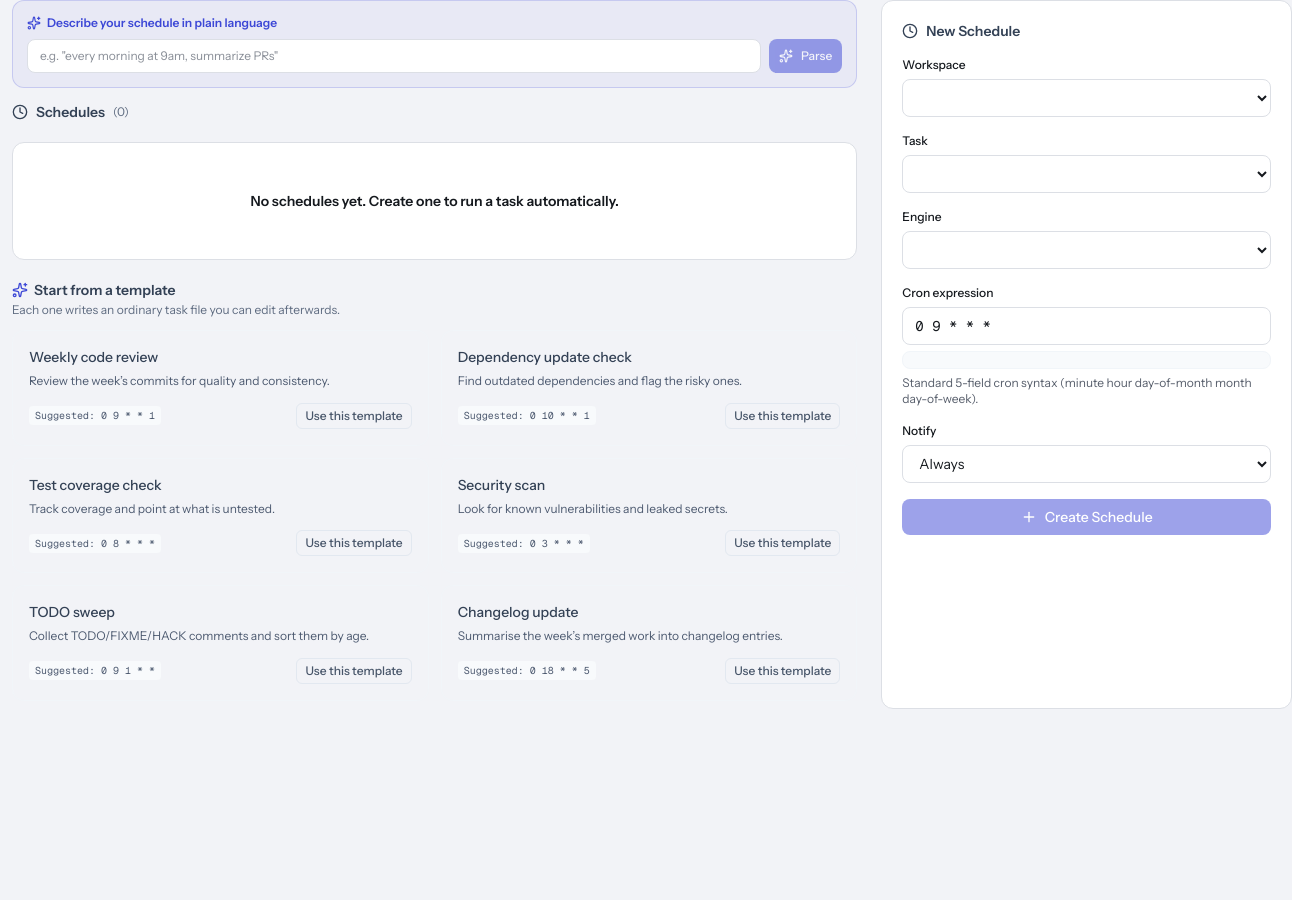
Test: CronPage natural language parsing › displays error message when parsing fails
Type "每晚8点" into the field named "Describe your schedule in plain language" at (394, 56), box [27,39,761,73]
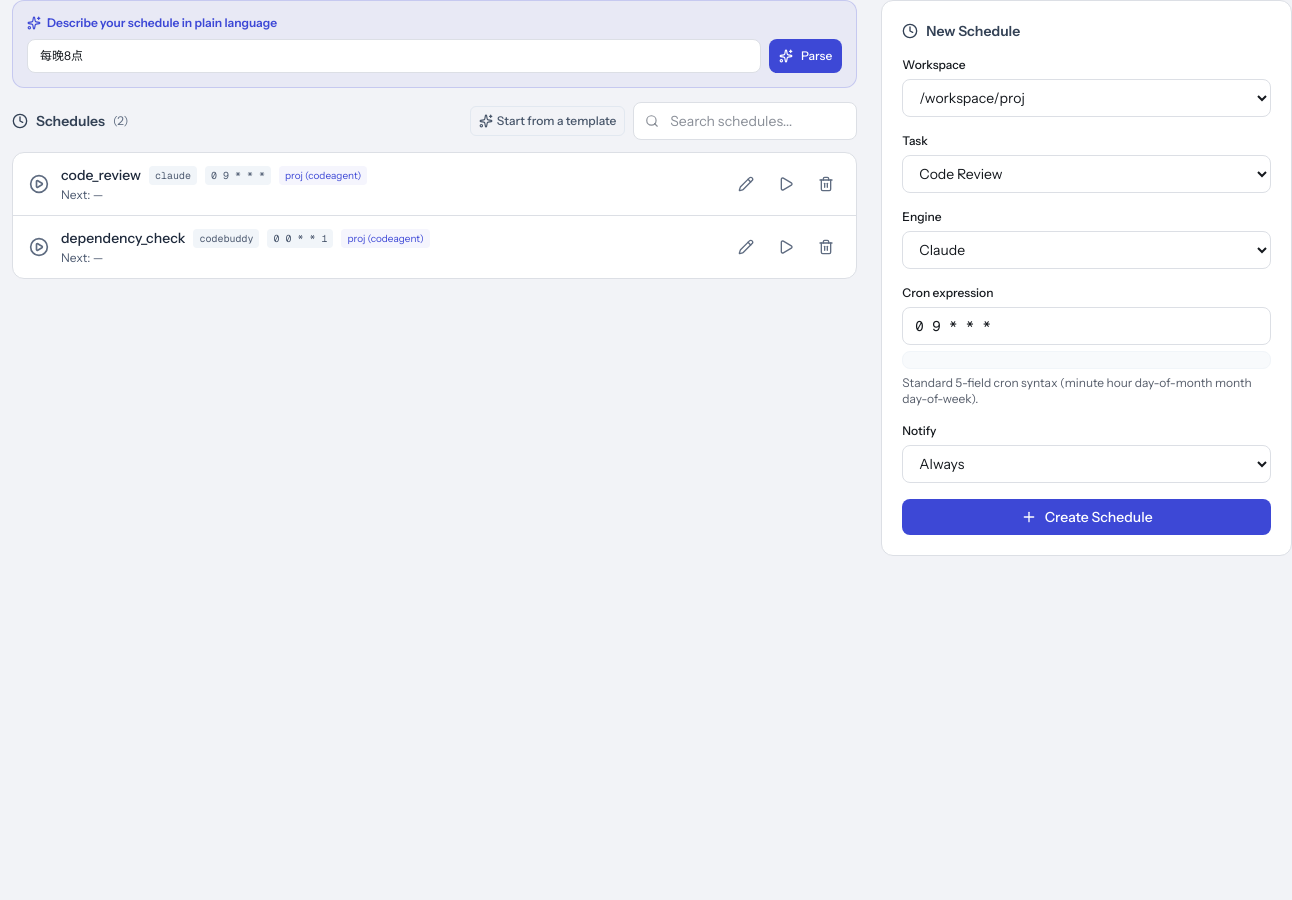
Click the button "Parse" at (806, 56), box [769,39,842,73]
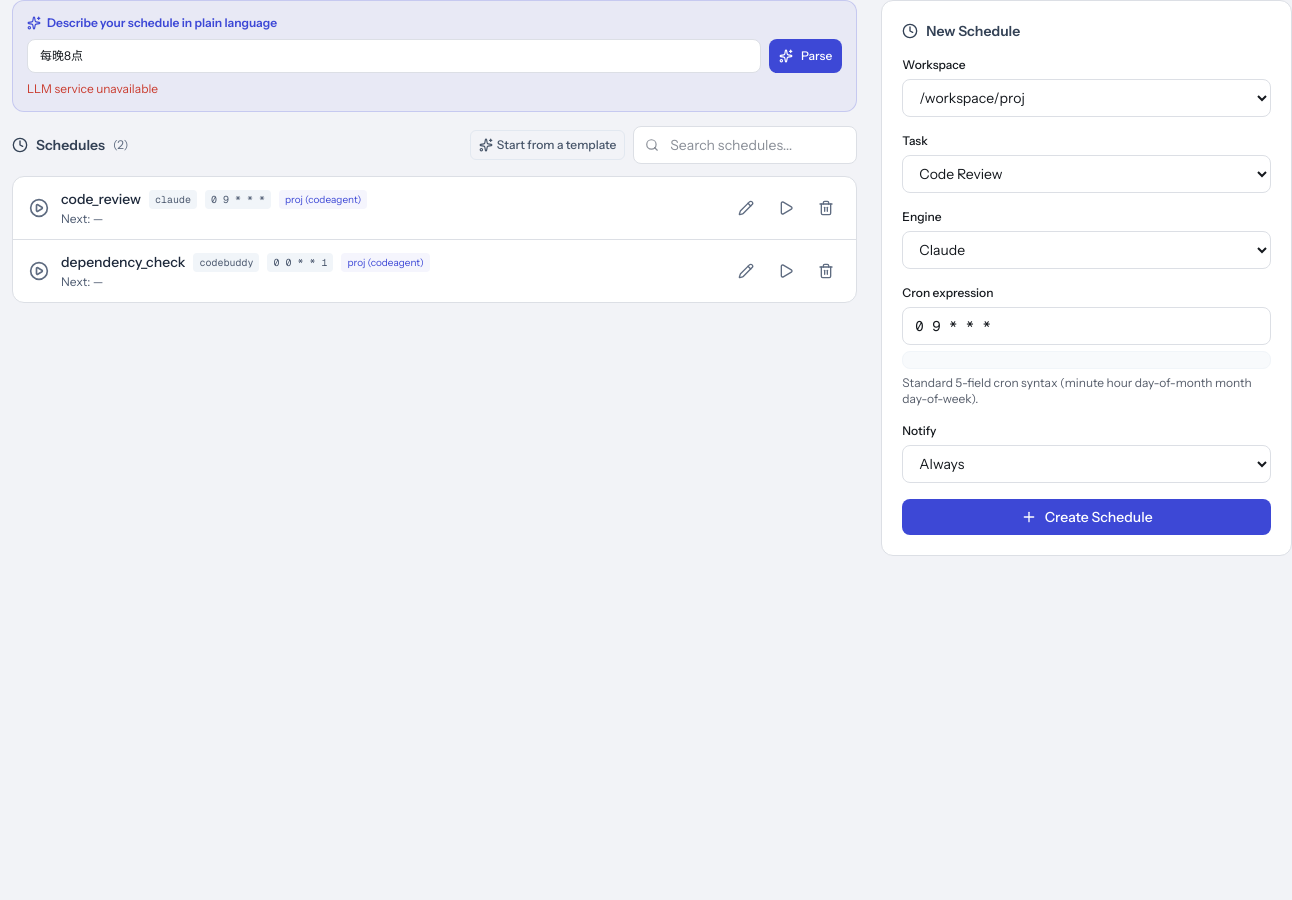
Now the text "LLM service unavailable" is shown, box [27,81,158,96]
